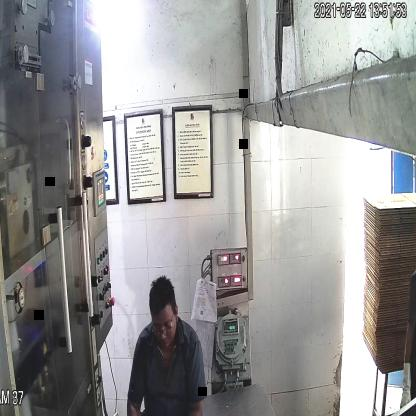goggles: (149, 314, 177, 340)
